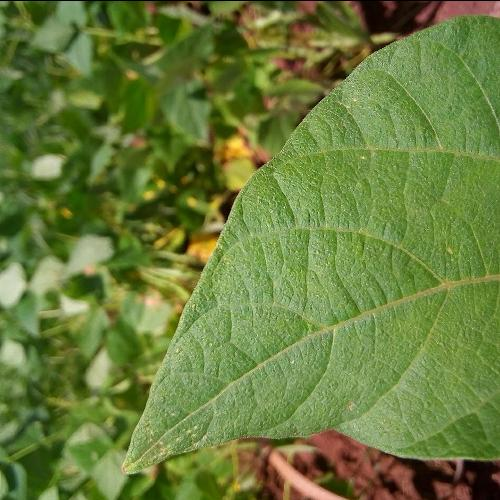sehat: (254, 180, 485, 417)
